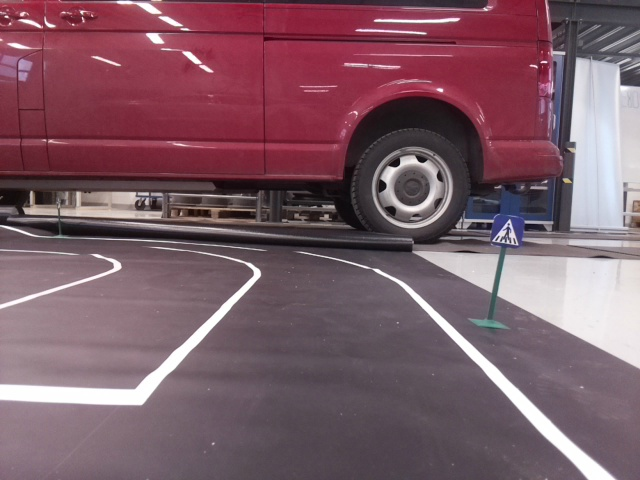Crosswalk: (493, 214, 522, 247)
